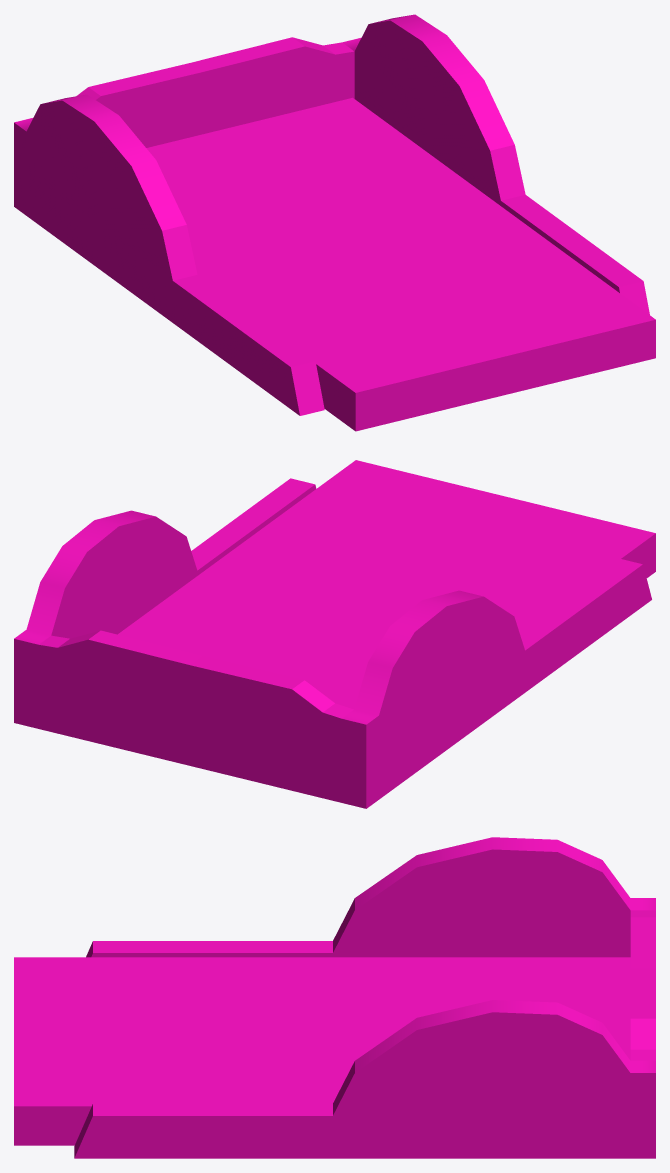
Rendered from study_calculator_3_meshCollider.fbx.
The picture shows the model from 3 angles, top to bottom: view 1: azimuth 30°, elevation 25°; view 2: azimuth 150°, elevation 25°; view 3: azimuth 270°, elevation 25°; orthographic projection.
Visible parts, largest first — view 1: study_calculator_3_meshCollider, study_calculator_3_shield_meshCollider; view 2: study_calculator_3_shield_meshCollider, study_calculator_3_meshCollider; view 3: study_calculator_3_shield_meshCollider, study_calculator_3_meshCollider.
Boxes of the visible parts, bbox=[...] form: study_calculator_3_meshCollider: bbox=[146, 97, 655, 431]; study_calculator_3_shield_meshCollider: bbox=[14, 14, 649, 415]; study_calculator_3_shield_meshCollider: bbox=[14, 478, 651, 808]; study_calculator_3_meshCollider: bbox=[118, 460, 655, 709]; study_calculator_3_shield_meshCollider: bbox=[74, 837, 655, 1158]; study_calculator_3_meshCollider: bbox=[14, 957, 630, 1145].
Size of the model in its own units: 11.38 by 4.44 by 17.64.
